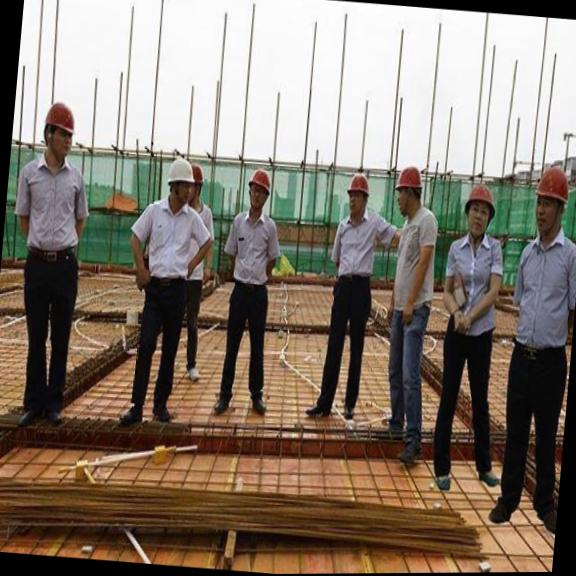no_safety_vest: (509, 229, 576, 359), (13, 161, 84, 281), (430, 232, 504, 347), (388, 207, 444, 312), (133, 203, 201, 279), (322, 212, 382, 295), (224, 208, 280, 288)
